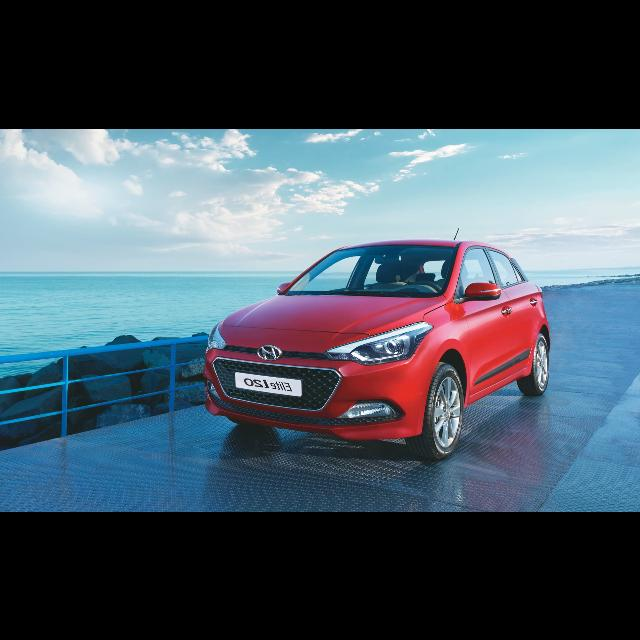number-plate: (236, 370, 301, 394)
vehicles: (205, 238, 554, 462)
